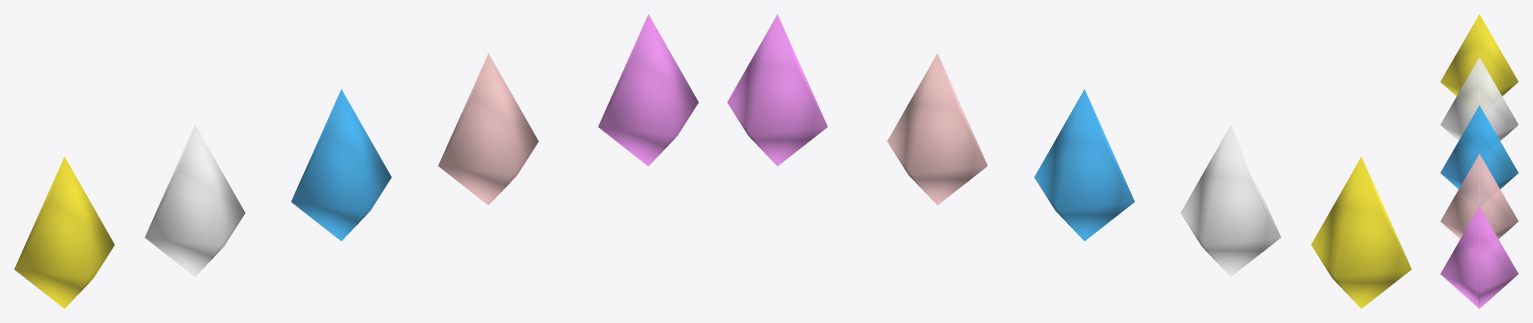
File: xingxing.FBX
3 renders of one model, left to right at view 1: azimuth 30°, elevation 25°; view 2: azimuth 150°, elevation 25°; view 3: azimuth 270°, elevation 25°, orthographic. The views are drawn at different scales.
Parts seen in each view (by area): view 1: GeoSphere004, GeoSphere002, GeoSphere001, GeoSphere005, GeoSphere003; view 2: GeoSphere004, GeoSphere002, GeoSphere001, GeoSphere005, GeoSphere003; view 3: GeoSphere005, GeoSphere004, GeoSphere003, GeoSphere002, GeoSphere001.
Boxes of the visible parts, x1,y1,x2,y2 form: GeoSphere004: (438, 53, 538, 205); GeoSphere002: (145, 125, 245, 276); GeoSphere001: (14, 157, 114, 308); GeoSphere005: (598, 14, 698, 166); GeoSphere003: (291, 89, 391, 241); GeoSphere004: (887, 53, 987, 205); GeoSphere002: (1180, 125, 1280, 276); GeoSphere001: (1311, 157, 1411, 308); GeoSphere005: (727, 14, 827, 166); GeoSphere003: (1034, 89, 1134, 241); GeoSphere005: (1440, 206, 1518, 308); GeoSphere004: (1440, 154, 1518, 238); GeoSphere003: (1440, 105, 1518, 189); GeoSphere002: (1440, 57, 1518, 140); GeoSphere001: (1440, 14, 1518, 95).
Bounding box in the file's own units: 794 × 169 × 117.
